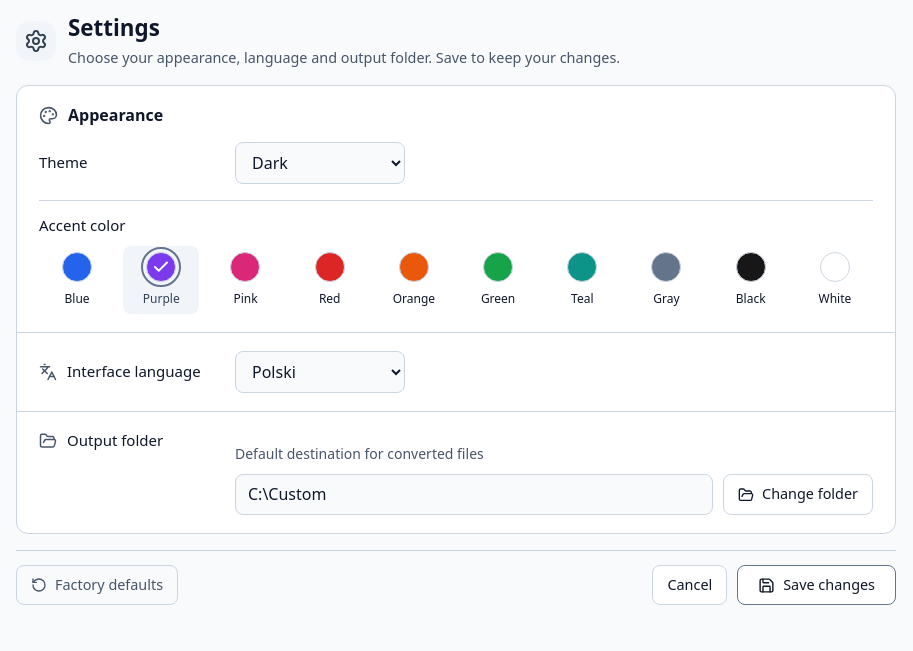
Test: restores factory values only in the draft, then saves them on submit
This screenshot has width=913, height=651.
Expected: the dropdown labelled "Theme" shows "Dark", [235, 142, 405, 184]
Expected: the radio button labelled "Purple" is checked, [123, 246, 199, 314]
Click the button "Factory defaults" at (97, 585), box [16, 565, 178, 605]
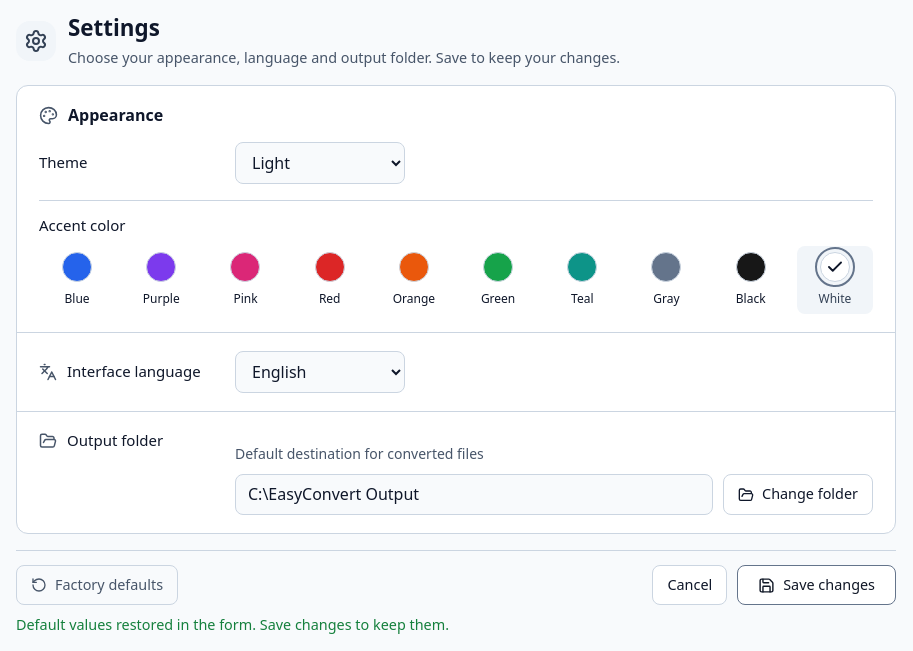
Expected: the dropdown labelled "Theme" shows "Light", [235, 142, 405, 184]
Expected: the dropdown labelled "Interface language" shows "English", [235, 351, 405, 393]
Expected: the radio button labelled "White" is checked, [797, 246, 873, 314]
Click the button "Save changes" at (817, 585), box [737, 565, 896, 605]
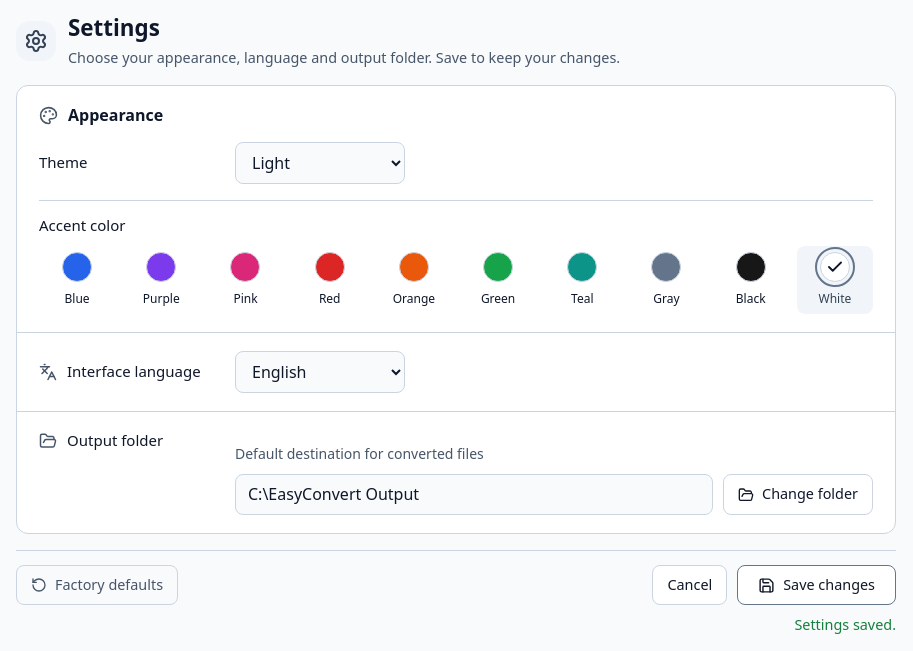
Expected: the message reads "Settings saved.", [794, 615, 896, 634]
